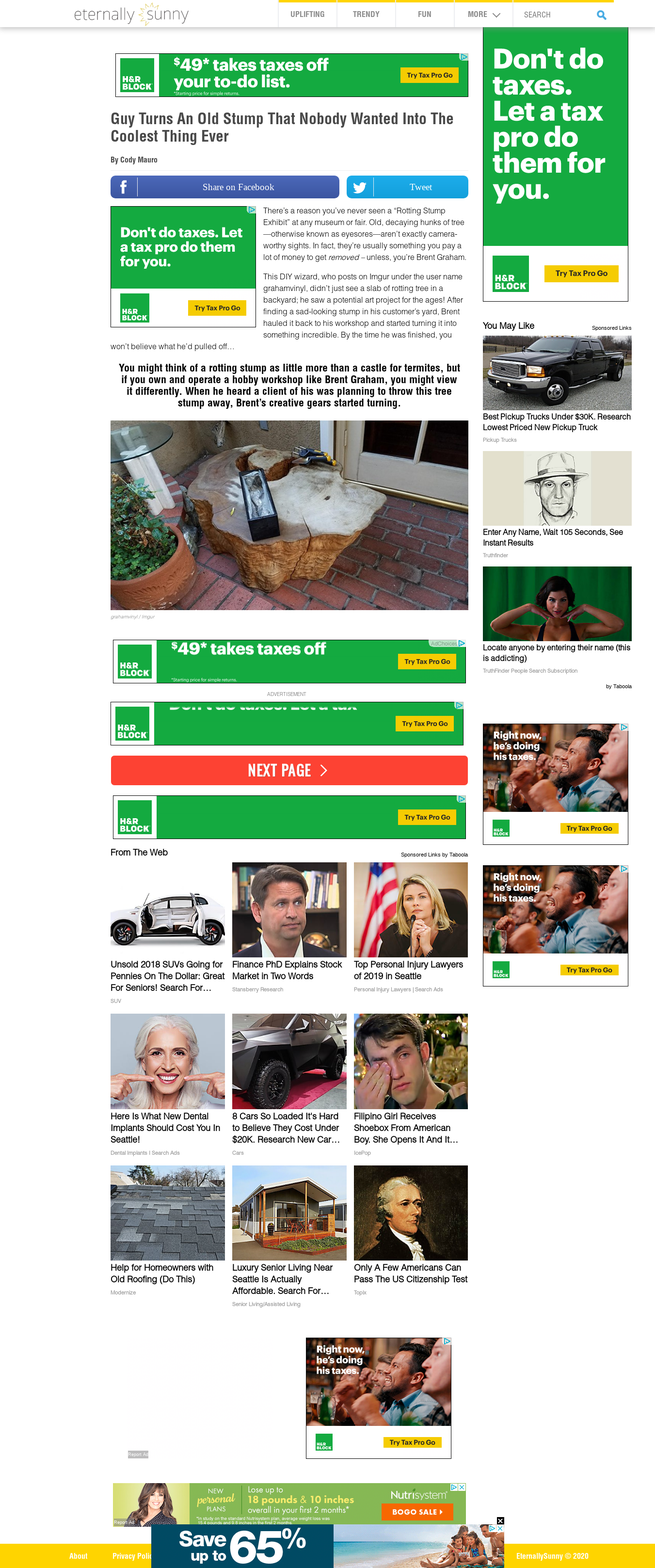fake_button: (385, 802, 464, 837), (376, 1495, 460, 1527), (389, 711, 458, 738), (389, 650, 460, 675)
